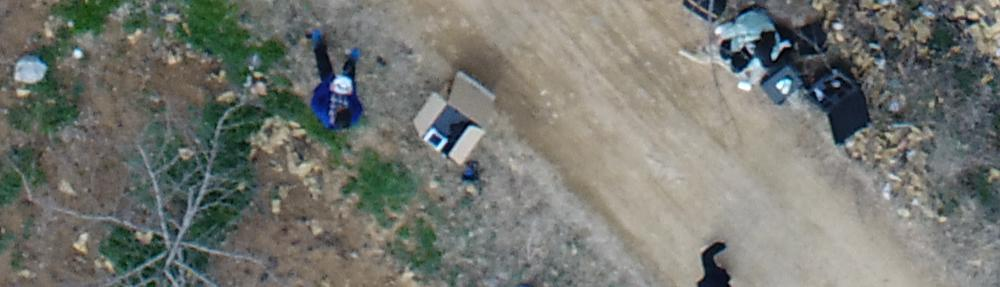apple: (52, 107, 314, 277)
